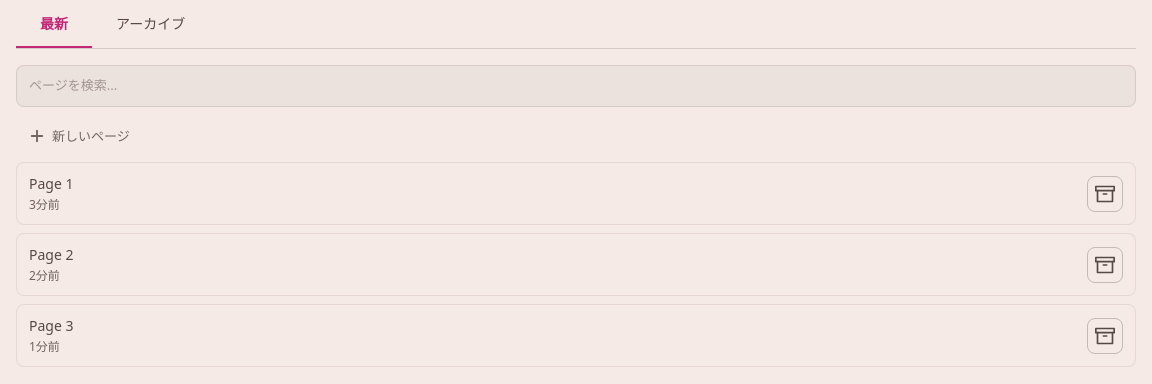
Test case: Sidebar › search › shows no-results message when search matches nothing
Type "zzz-nonexistent" into the field labelled "ページを検索" at (576, 86), box [16, 65, 1136, 106]
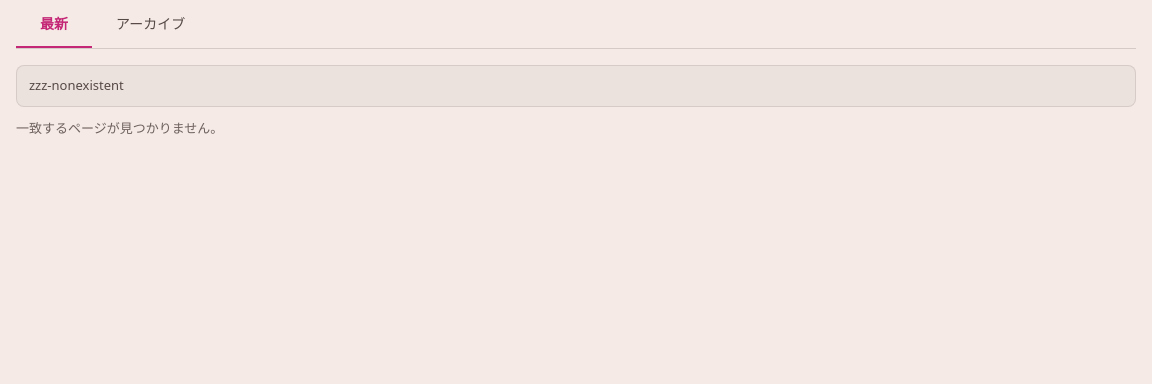
Expected: the text "一致するページが見つかりません。" is shown, [16, 118, 223, 136]
